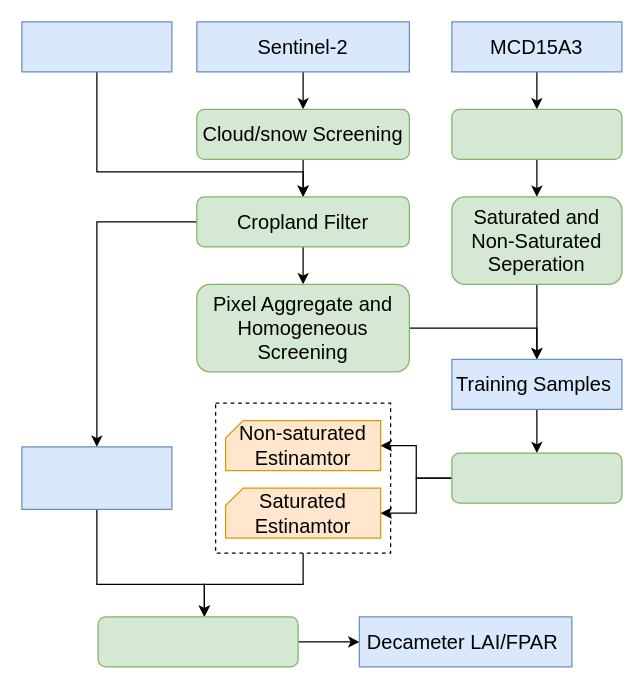
Image size: 644x689. Some labels were removed from this diagram. The shapes that lost their labels are listed below. From the top down, each one's centre as x and y in pixels, then its label:
At point 96,46: "FROMGLC".
At point 536,133: "Quality Assurance".
At point 96,477: "Pre-processed Sentinel-2".
At point 536,477: "Outlier Removal".
At point 197,641: "Weighted Average".
